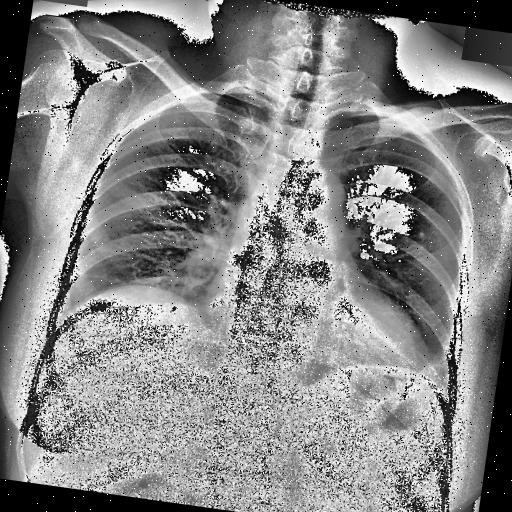0- Aortic enlargement: (280, 158, 358, 236), (280, 162, 353, 222)
3- Cardiomegaly: (187, 268, 441, 390), (182, 272, 436, 384), (196, 286, 434, 366)
